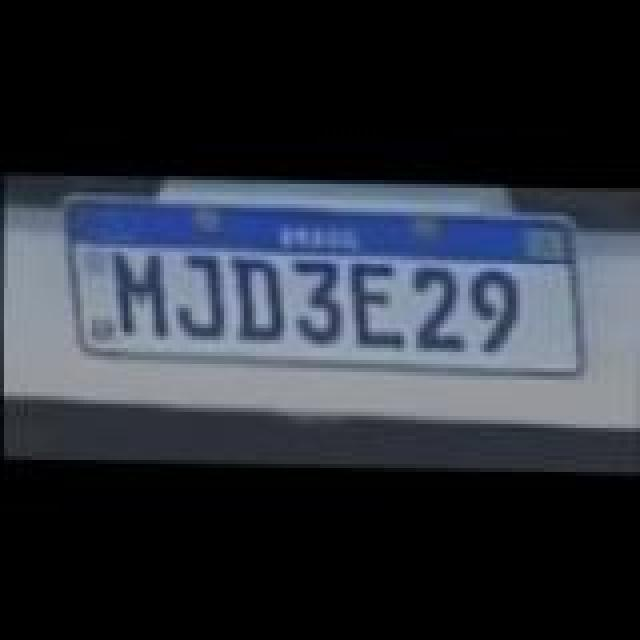2: (404, 260, 472, 348)
3: (286, 254, 358, 342)
9: (466, 264, 530, 348)
D: (222, 252, 294, 340)
E: (344, 258, 412, 346)
J: (166, 248, 238, 336)
M: (104, 244, 180, 332)
